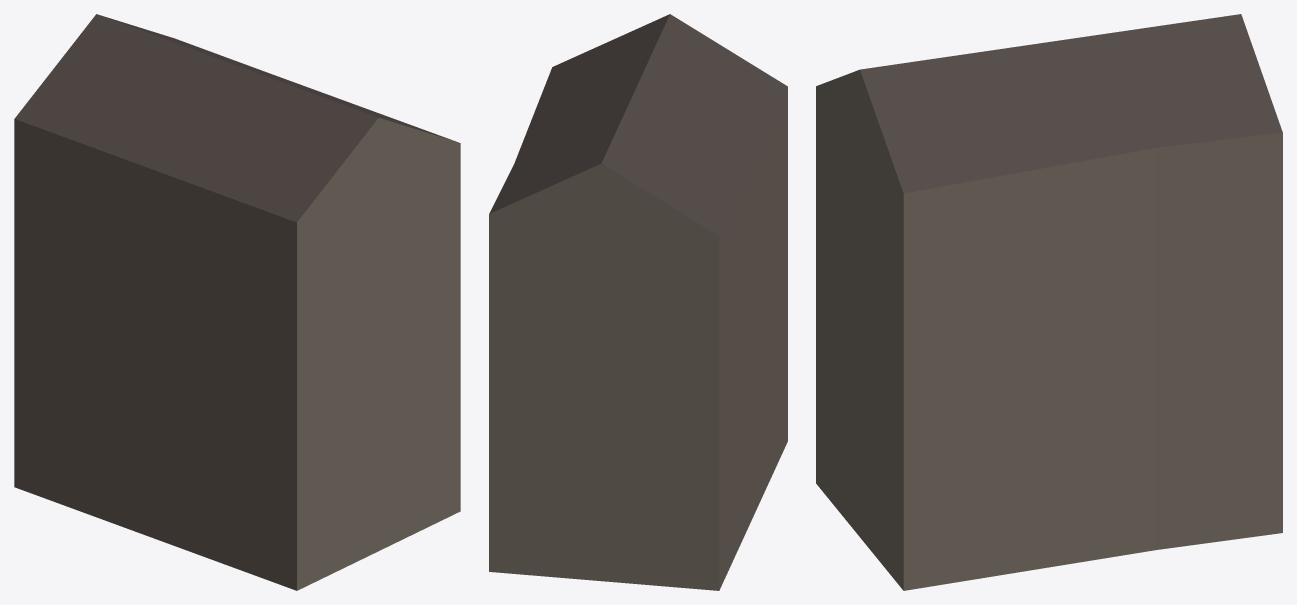
3 views of the same model, side by side, from view 1: azimuth 30°, elevation 25°; view 2: azimuth 150°, elevation 25°; view 3: azimuth 270°, elevation 25° (orthographic). The views are drawn at different scales.
Parts seen in each view (by area): view 1: HP-w1198645110; view 2: HP-w1198645110; view 3: HP-w1198645110.
Boxes of the visible parts, left/top/right/bottom form: HP-w1198645110: left=14, top=14, right=460, bottom=590; HP-w1198645110: left=489, top=14, right=787, bottom=590; HP-w1198645110: left=816, top=14, right=1282, bottom=590.
Size of the model in its own units: 5.28 by 7.06 by 6.39.
